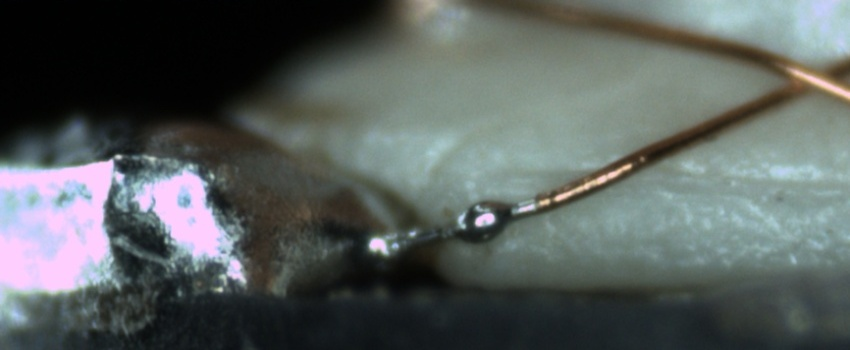CL: (763, 46, 848, 106)
DL: (506, 147, 850, 211)
TB: (452, 194, 513, 247)
TS: (407, 197, 538, 247)
TTCW: (369, 174, 593, 263)
